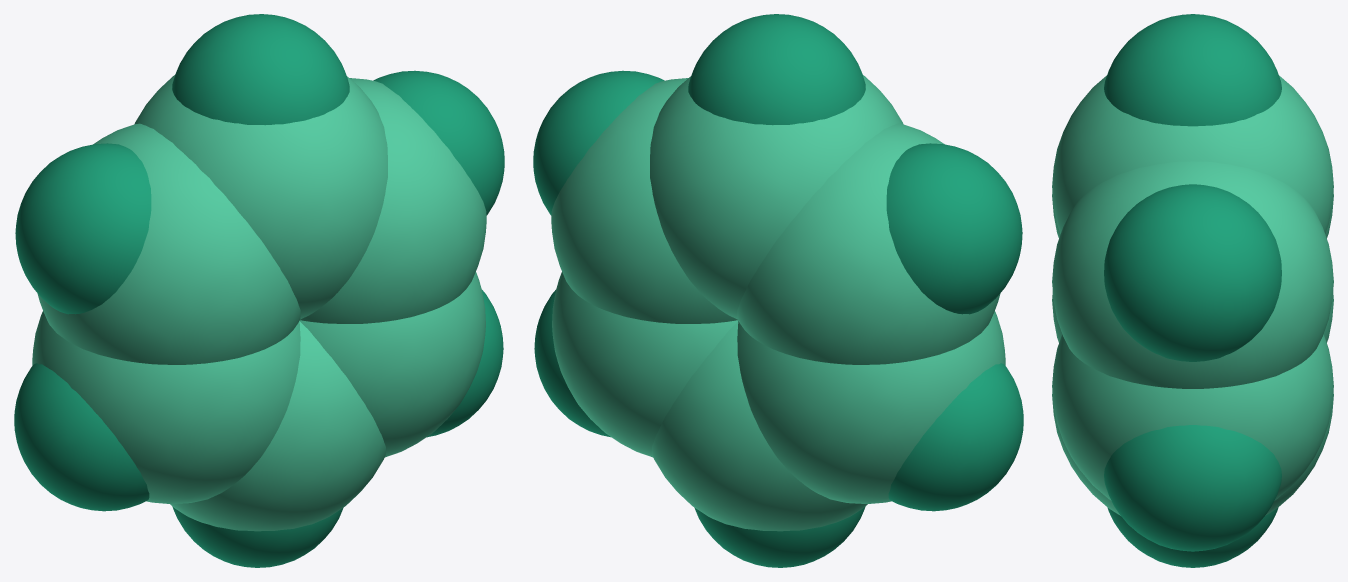
File: molfig-benzene-spacefill.obj
3 views of the same model, side by side, from view 1: azimuth 30°, elevation 25°; view 2: azimuth 150°, elevation 25°; view 3: azimuth 270°, elevation 25° (orthographic).
Size of the model in its own units: 6.52 by 7.16 by 3.4.
